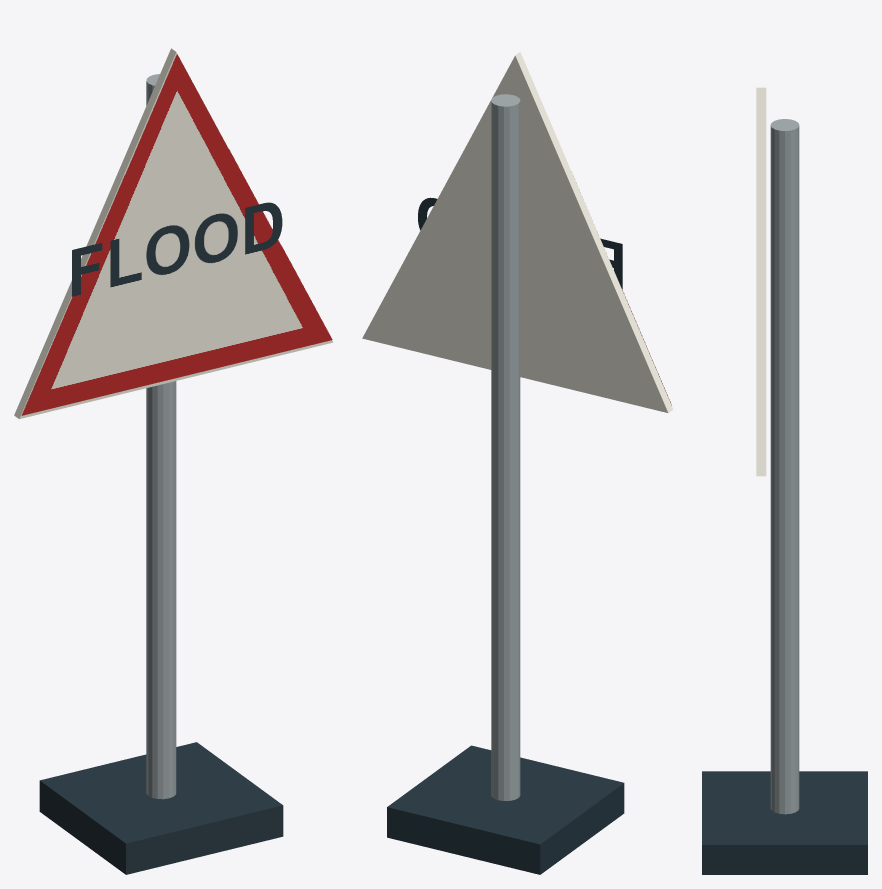
File: scendance-plan-flood.glb
3 renders of one model, left to right at view 1: azimuth 30°, elevation 25°; view 2: azimuth 150°, elevation 25°; view 3: azimuth 270°, elevation 25°, orthographic. The views are drawn at different scales.
Size of the model in its own units: 0.84 by 2 by 0.4.
4 materials, 1 textured.
